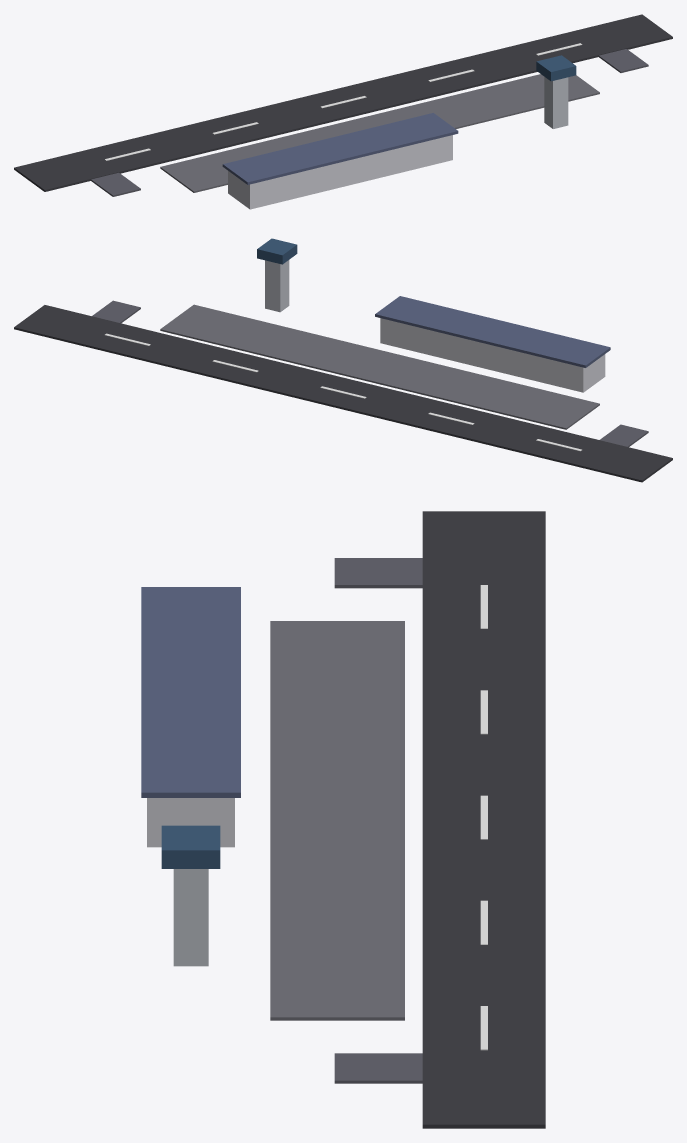
Rendered from airport_1995.glb.
3 renders of one model, top to bottom at view 1: azimuth 30°, elevation 25°; view 2: azimuth 150°, elevation 25°; view 3: azimuth 270°, elevation 25°, orthographic. The views are drawn at different scales.
Visible parts, largest first — view 1: Runway, Apron, TerminalRoof, Terminal, Tower, TowerCab, TaxiwayE, TaxiwayW; view 2: Runway, Apron, TerminalRoof, Terminal, Tower, TowerCab, TaxiwayW, TaxiwayE; view 3: Runway, Apron, TerminalRoof, Tower, Terminal, TaxiwayE, TaxiwayW, TowerCab.
Boxes of the visible parts, x1,y1,x2,y2 form: Runway: (14,14,672,191); Apron: (160,74,599,192); TerminalRoof: (222,113,458,184); Terminal: (228,135,452,209); Tower: (544,77,568,128); TowerCab: (536,55,576,81); TaxiwayE: (598,49,648,72); TaxiwayW: (91,172,140,196); Runway: (14,305,672,482); Apron: (160,304,599,429); TerminalRoof: (375,296,610,367); Terminal: (380,318,605,392); Tower: (265,260,289,312); TowerCab: (257,238,297,264); TaxiwayW: (600,424,648,447); TaxiwayE: (92,300,140,323); Runway: (422,511,545,1128); Apron: (270,621,404,1020); TerminalRoof: (141,587,240,797); Tower: (173,869,208,966); Terminal: (147,798,234,847); TaxiwayE: (334,1053,422,1083); TaxiwayW: (334,558,422,588); TowerCab: (161,825,220,868).
Bounding box in the file's own units: 9.9 × 0.91 × 2.76.
